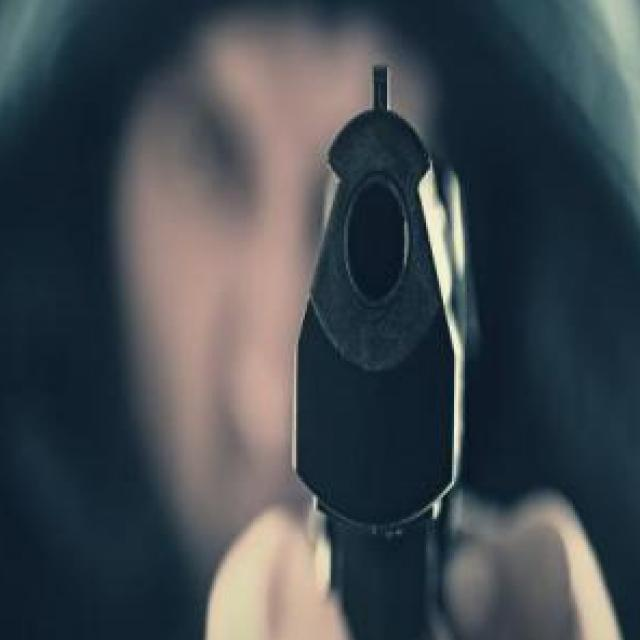pistol: (296, 65, 465, 640)
